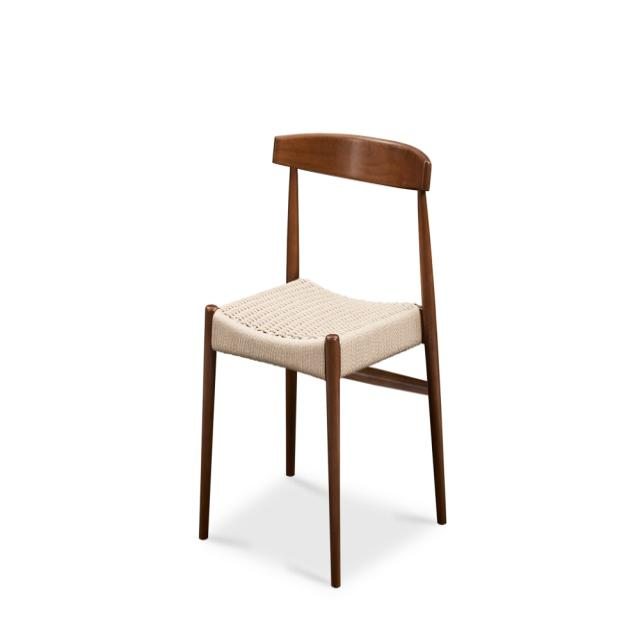chair: (157, 96, 471, 613)
